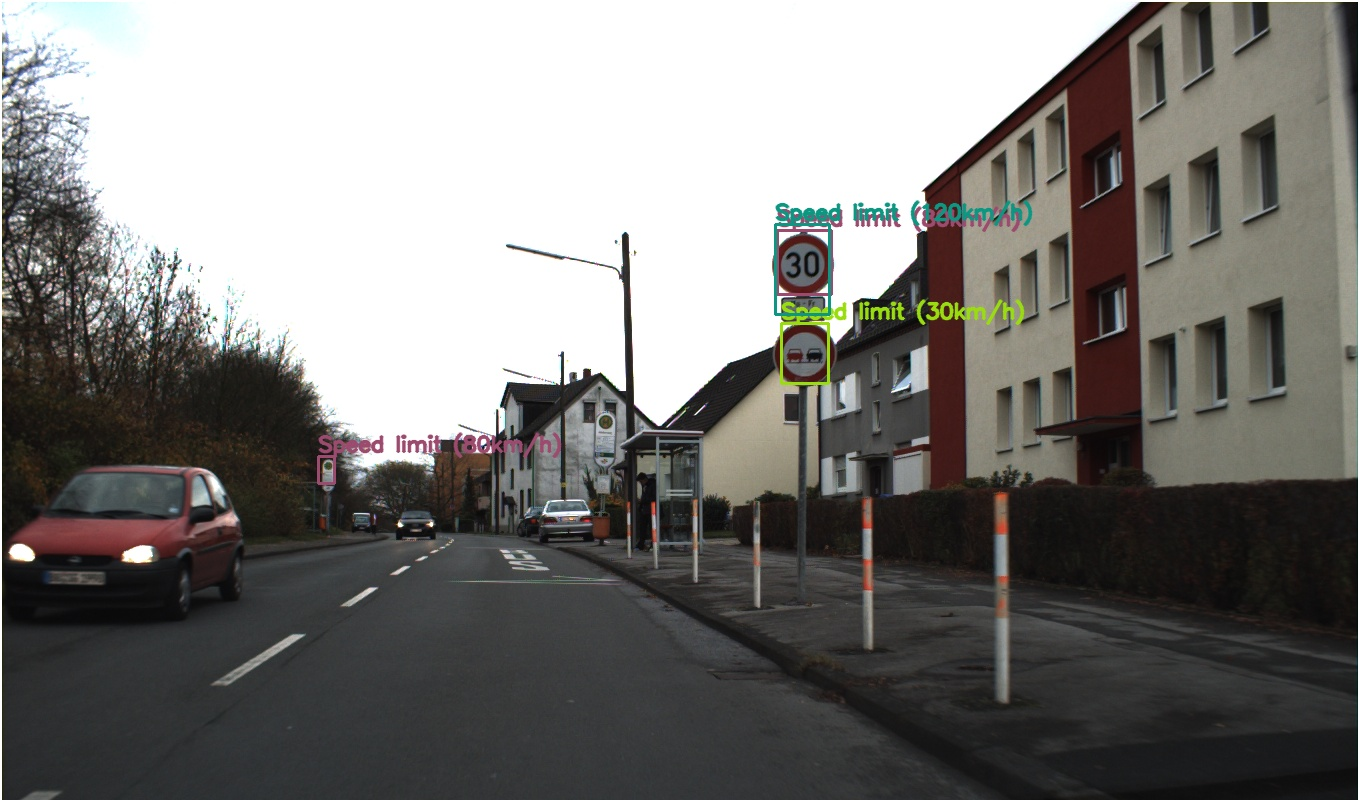Speed limit (20km/h): (758, 375, 784, 400)
